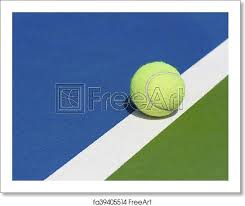tennis_ball: (129, 60, 183, 118)
